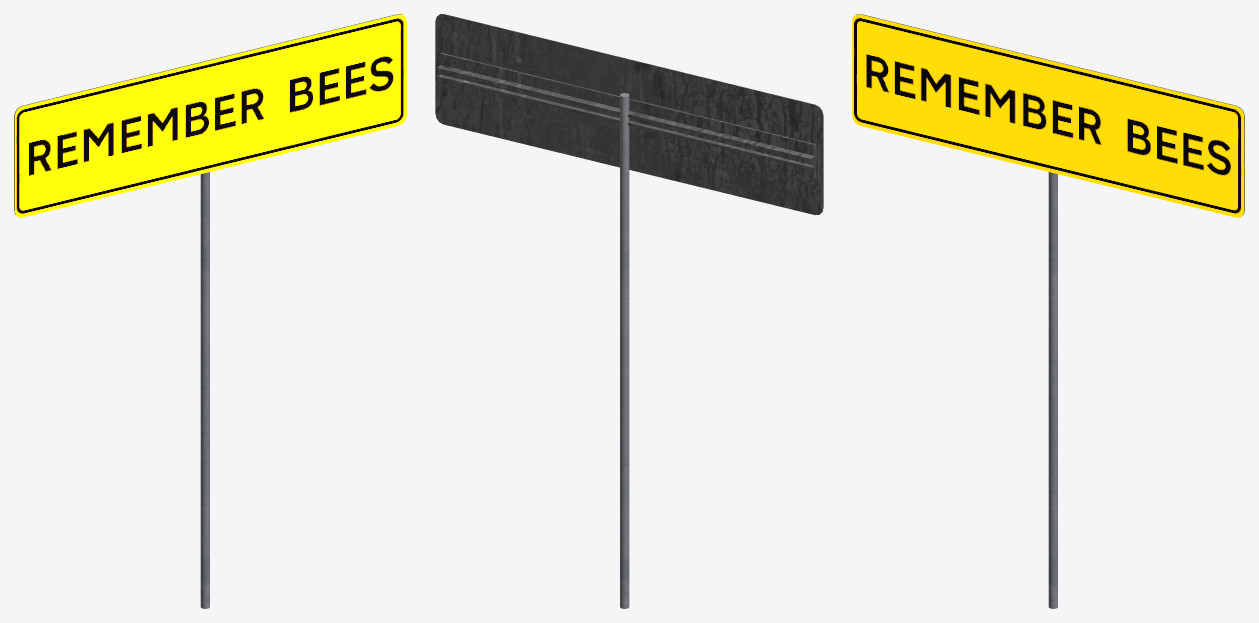
File: bees.gltf
3 views of the same model, side by side, from view 1: azimuth 30°, elevation 25°; view 2: azimuth 150°, elevation 25°; view 3: azimuth 330°, elevation 25° (orthographic).
Parts seen in each view (by area): view 1: Sign_S_1.5_.015, PoleA_50.8_2800mm_A_.028; view 2: Sign_S_1.5_.015, PoleA_50.8_2800mm_A_.028; view 3: Sign_S_1.5_.015, PoleA_50.8_2800mm_A_.028.
Part boxes in pixels (x1,y1,x2,y2): Sign_S_1.5_.015: [14, 14, 406, 217]; PoleA_50.8_2800mm_A_.028: [200, 172, 209, 608]; Sign_S_1.5_.015: [435, 14, 823, 215]; PoleA_50.8_2800mm_A_.028: [620, 93, 629, 608]; Sign_S_1.5_.015: [852, 14, 1244, 217]; PoleA_50.8_2800mm_A_.028: [1048, 172, 1057, 608].
Size of the model in its own units: 1.66 by 2.23 by 0.0559.
6 materials, 6 textured.
